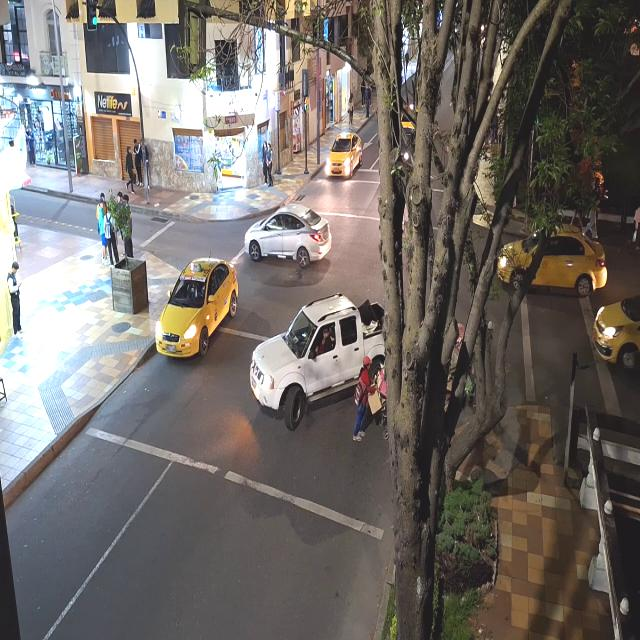CMT: (255, 299, 388, 412)
SED: (501, 218, 608, 289), (162, 260, 230, 356), (593, 296, 638, 368), (329, 135, 360, 178)
